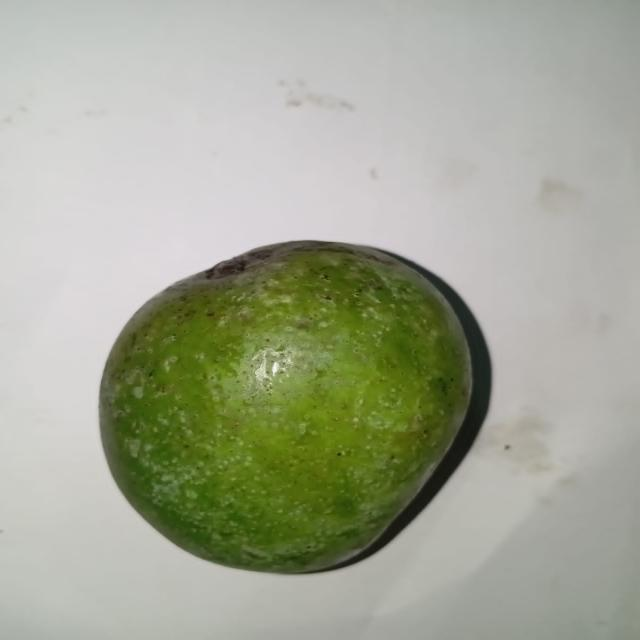rotten_mango: (94, 238, 478, 575)
